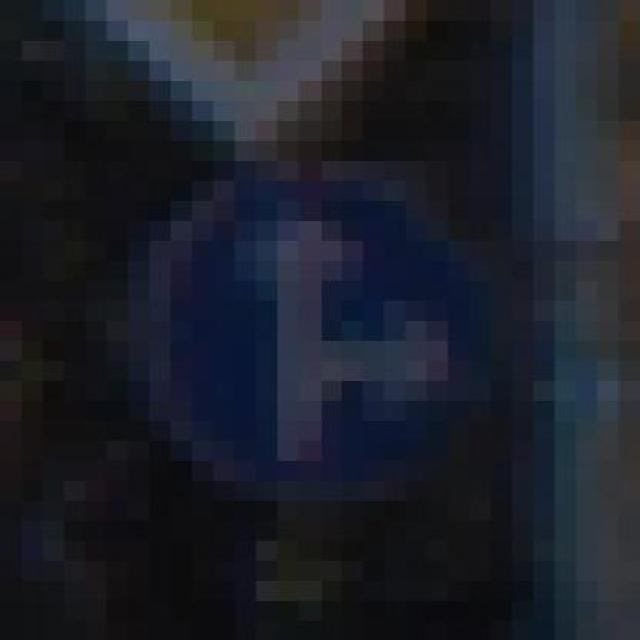Go Straight or Turn Right: (116, 157, 522, 537)
